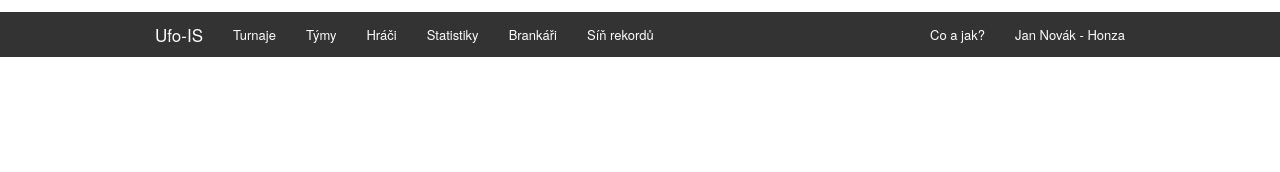
Test: logged user sees name with nickname and logout
Click the button "Jan Novák - Honza" at (1070, 34), box [1000,12,1140,57]
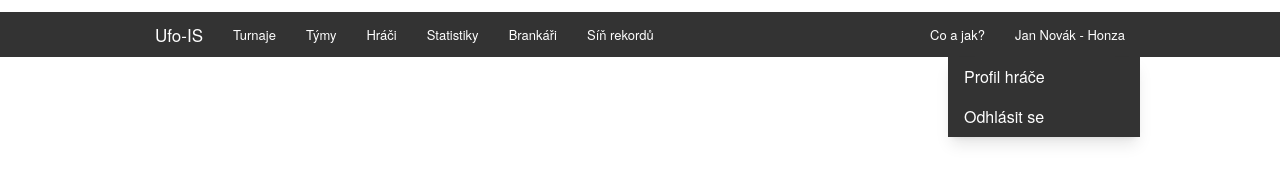
Expected: the menu item "Profil hráče" is shown, [948,57,1140,97]
Expected: the menu item "Odhlásit se" is shown, [948,97,1140,137]
